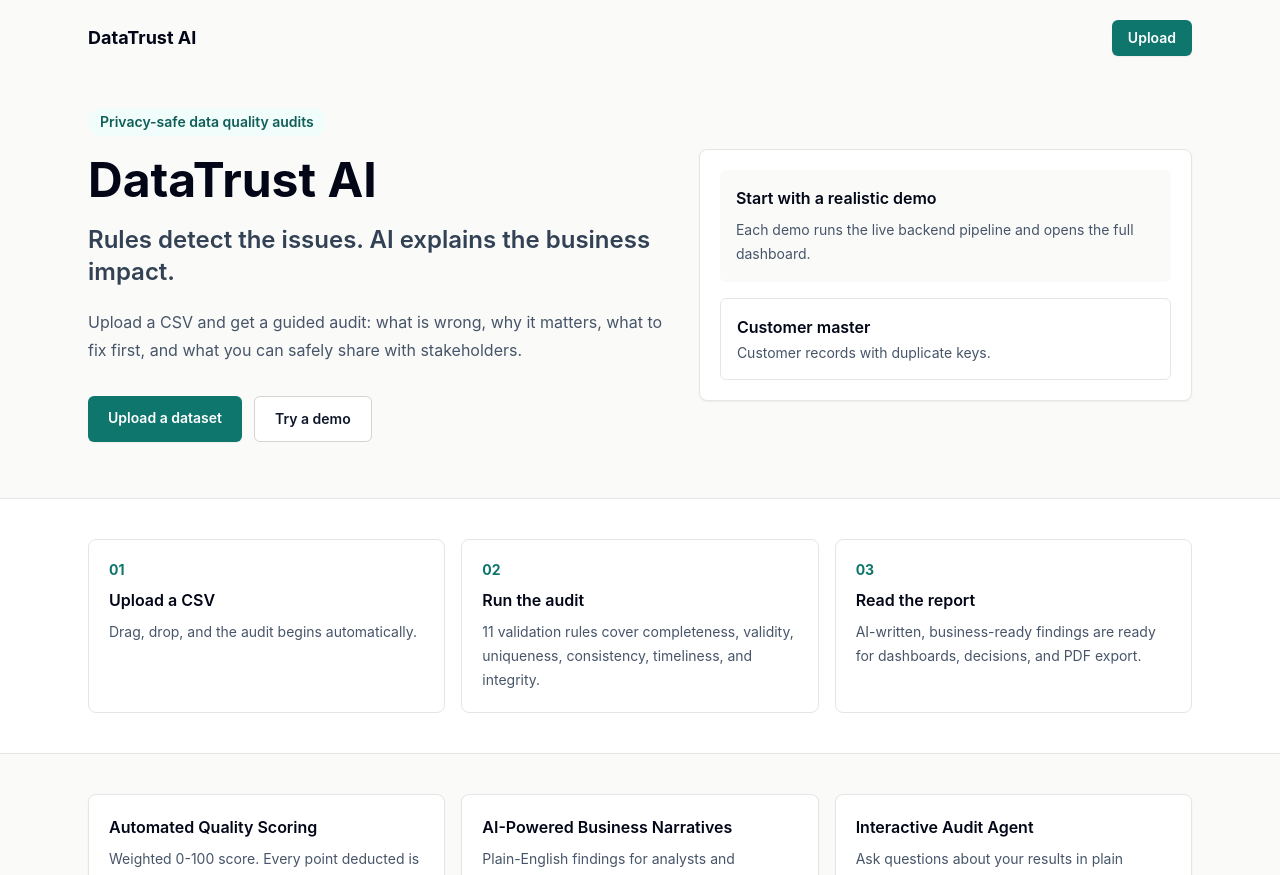
Test: LandingPage › shows an error message when demo loading fails
The width and height of the screenshot is (1280, 875).
Click the button "Customer master Customer records with duplicate keys.": (804, 327) [720,298,1171,380]
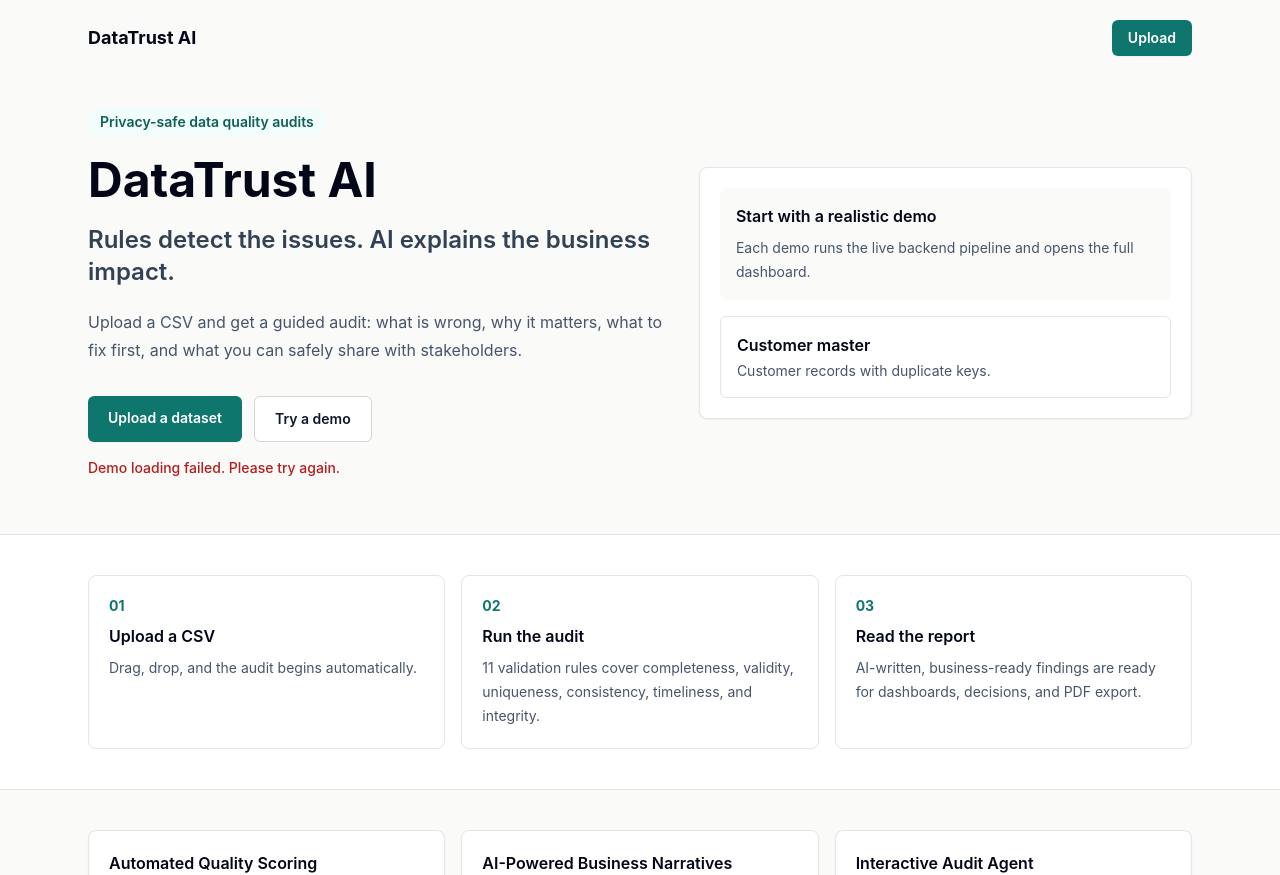
expect the text "Demo loading failed. Please try again." is shown: met, box [88,459,340,476]
